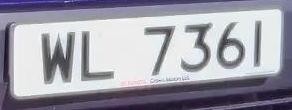1: (247, 14, 270, 71)
3: (177, 17, 215, 77)
6: (213, 15, 252, 73)
7: (138, 20, 179, 78)
L: (76, 26, 122, 88)
W: (36, 24, 80, 92)
